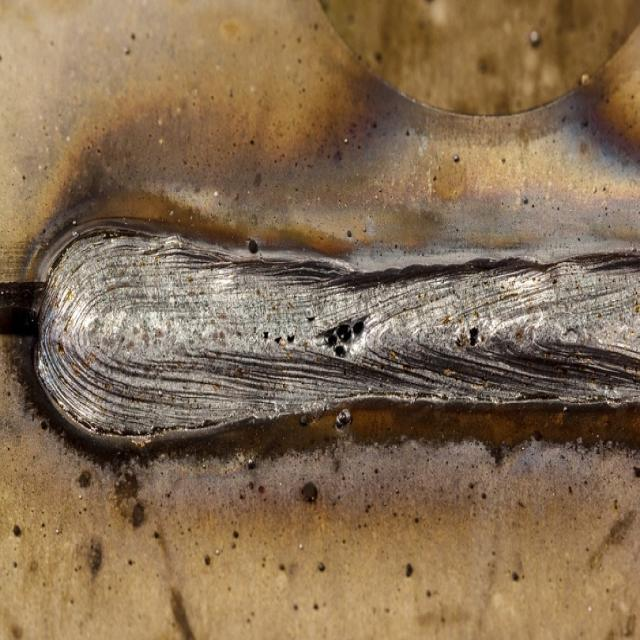Porosity: (316, 314, 369, 364), (258, 326, 299, 346), (465, 320, 482, 353), (247, 236, 262, 260)
